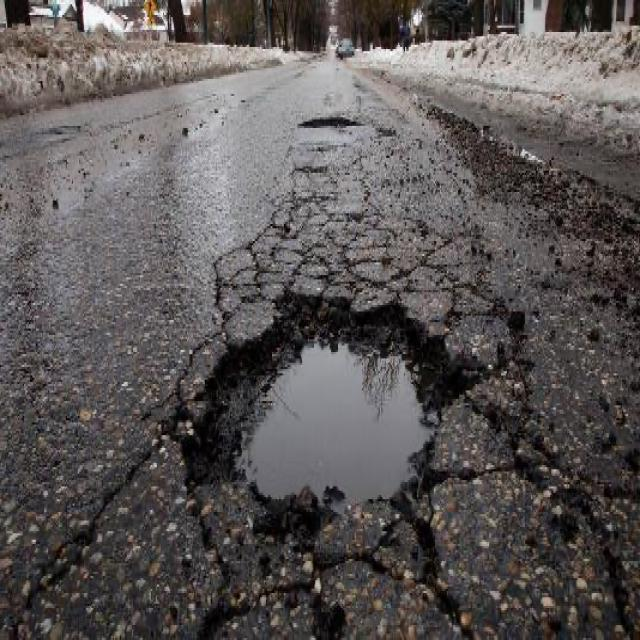pothole: (170, 284, 478, 553), (300, 113, 359, 132)
